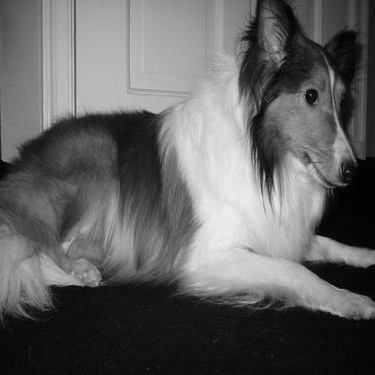dog: (1, 4, 373, 327)
